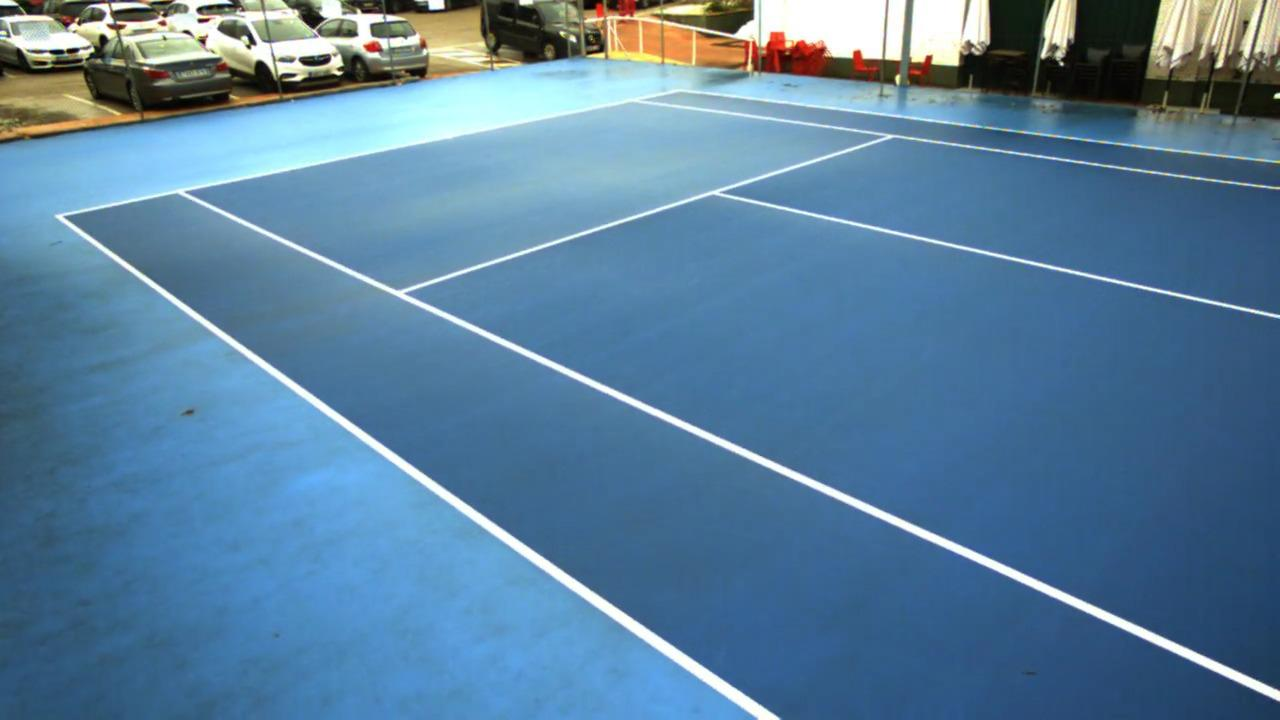cancha_tenis: (177, 99, 1280, 720)
point_f1: (163, 176, 200, 207)
point_f2: (623, 89, 647, 112)
point_fc1: (440, 130, 463, 148)
point_i1: (380, 275, 425, 313)
point_i2: (879, 125, 904, 147)
point_ic1: (701, 178, 740, 206)
